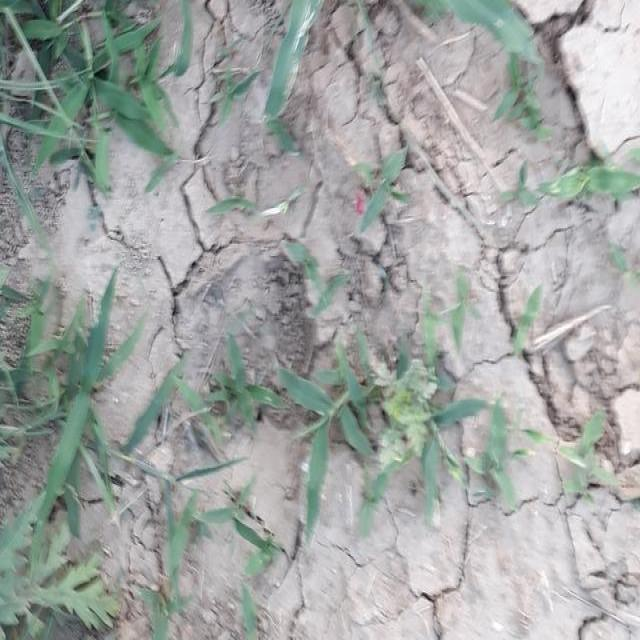weed: (180, 316, 506, 502), (4, 273, 123, 640), (0, 0, 173, 180)
